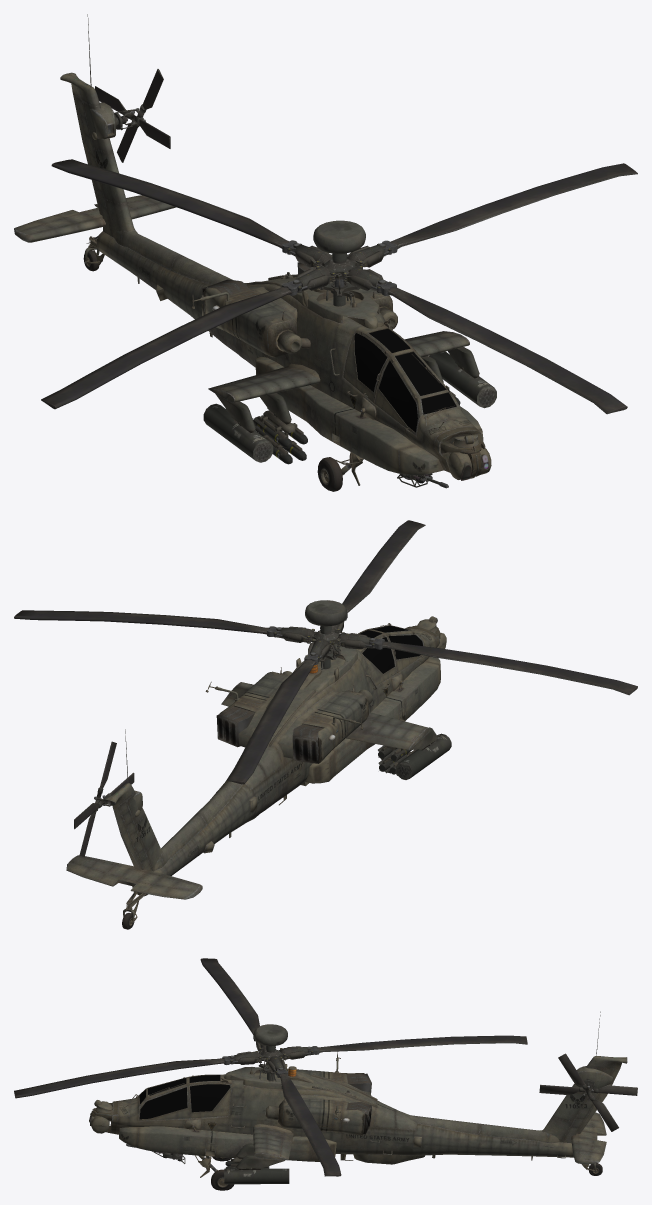
The model's file is AH-64D-Apache-Longbow.fbx.
3 views of the same model, one above another, from view 1: azimuth 30°, elevation 25°; view 2: azimuth 150°, elevation 25°; view 3: azimuth 270°, elevation 25° (orthographic). The views are drawn at different scales.
Parts seen in each view (by area): view 1: mesh0 (×3); view 2: mesh0 (×3); view 3: mesh0 (×3).
Part boxes in pixels (x1,y1,x2,y2): mesh0 (×3): (14,14,637,491); mesh0 (×3): (14,520,637,929); mesh0 (×3): (14,958,637,1190).
Size of the model in its own units: 13.22 by 4.7 by 16.05.
3 materials, 3 textured.
